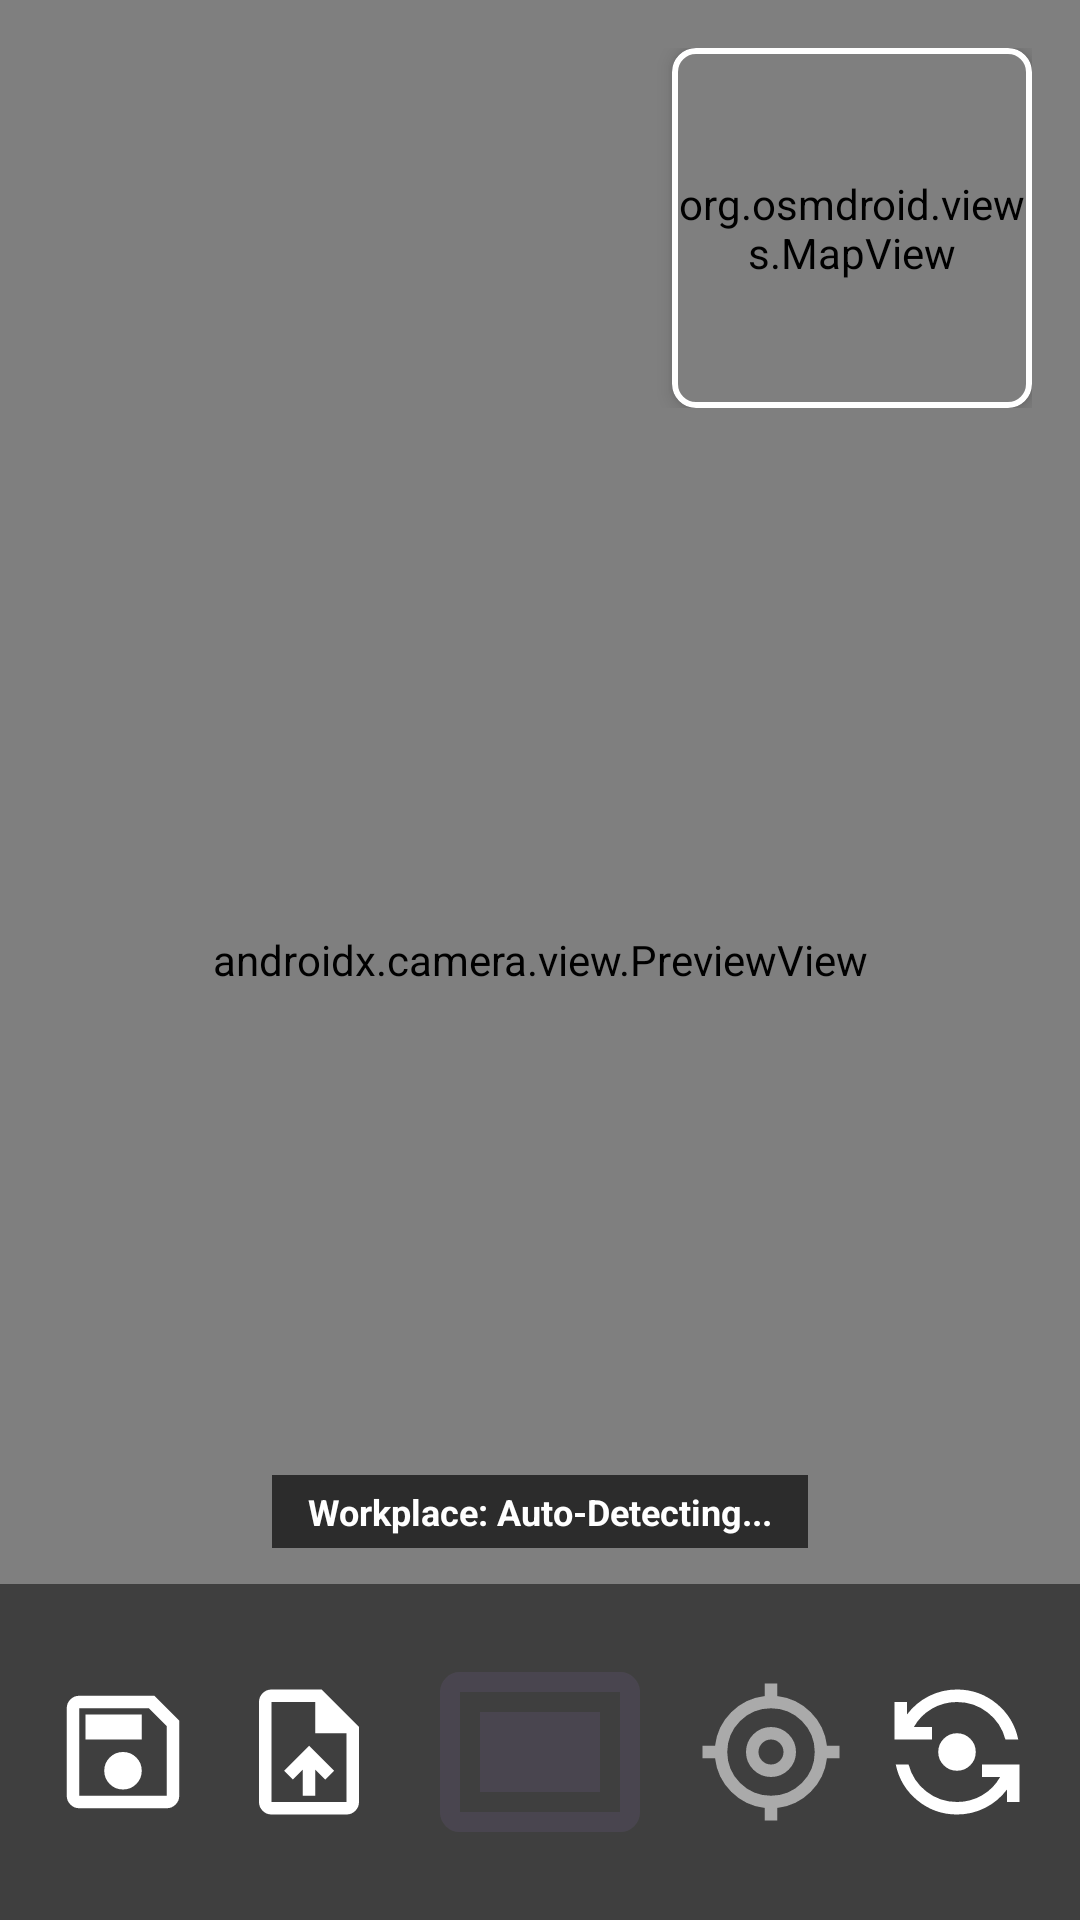

Point at icon controls on the screen. Image size 1080px x 1920px, points as (x,y).
Flip Camera: (957,1752)
Force GPS Refresh: (771,1752)
Import Image: (309,1752)
Select Save Folder: (123,1752)
